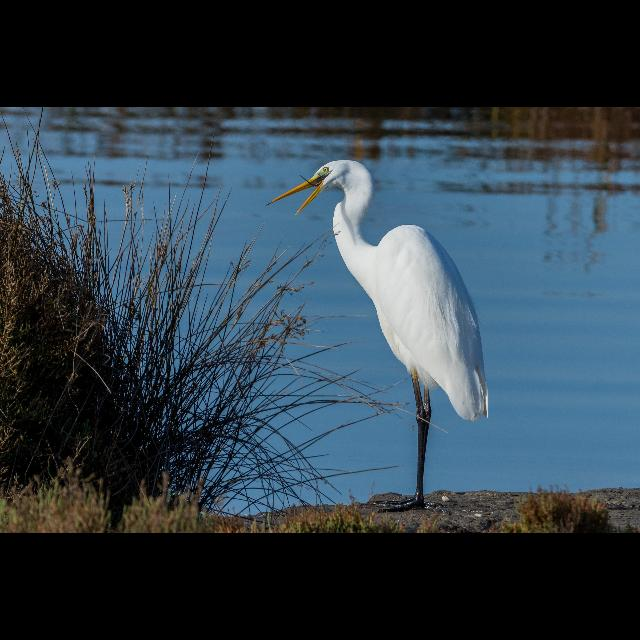egret: (264, 140, 500, 522)
